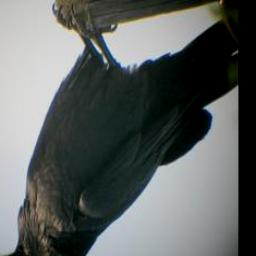Crow: (0, 4, 239, 256)
